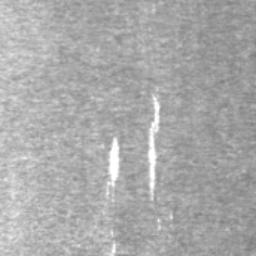White rust: (148, 96, 160, 193), (108, 137, 120, 187)
